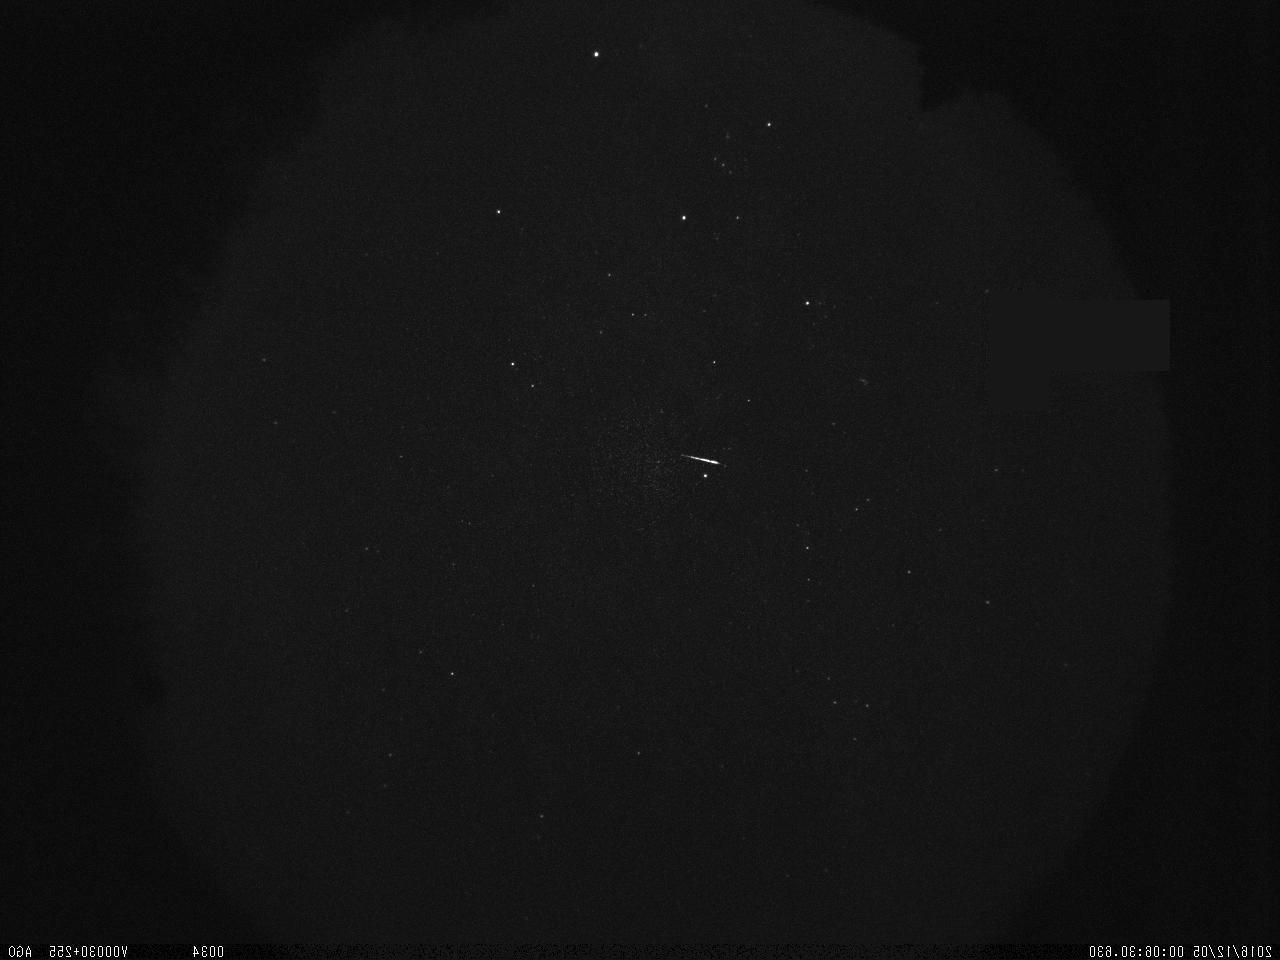meteor: (674, 436, 736, 477)
